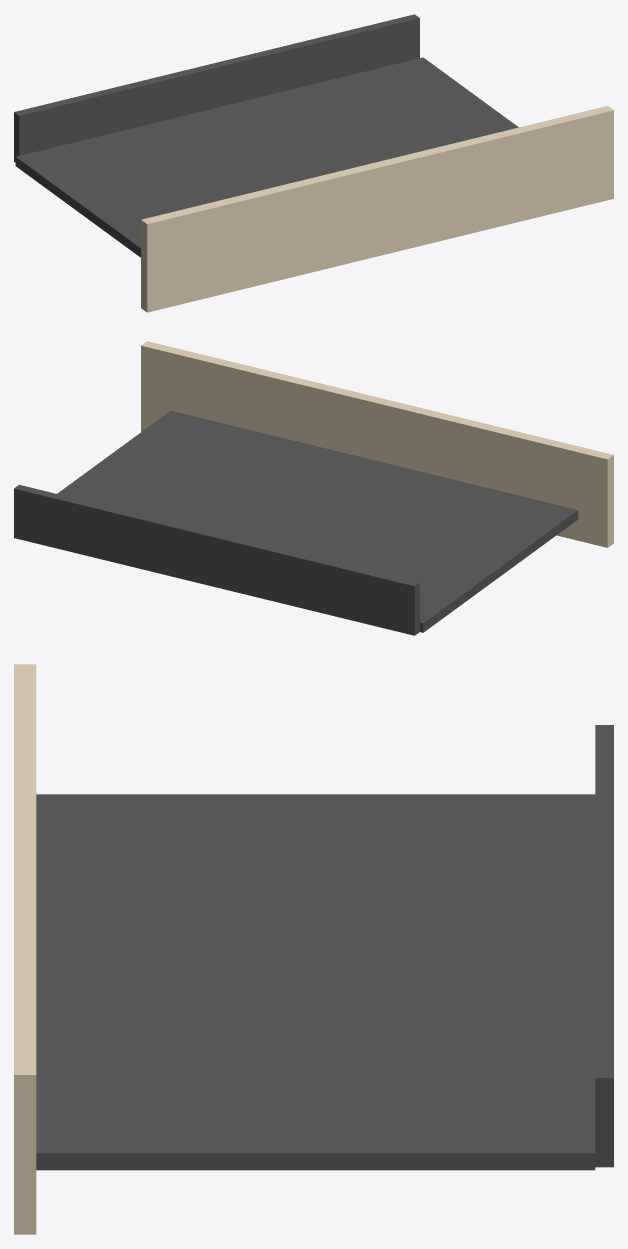
Rendered from M2_skuff1.glb.
The picture shows the model from 3 angles, top to bottom: view 1: azimuth 30°, elevation 25°; view 2: azimuth 150°, elevation 25°; view 3: azimuth 270°, elevation 25°; orthographic projection. The views are drawn at different scales.
Size of the model in its own units: 828 by 150 by 511.
